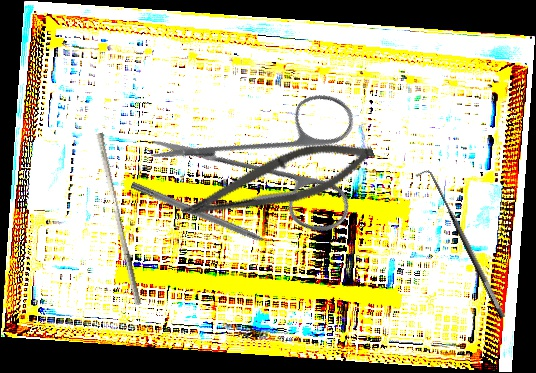Hook Surgical: (415, 165, 508, 325), (129, 180, 283, 254)
Iris Scissors: (143, 29, 404, 290)
Micro Scissor: (175, 123, 381, 243)
Pusher: (89, 132, 149, 306)
